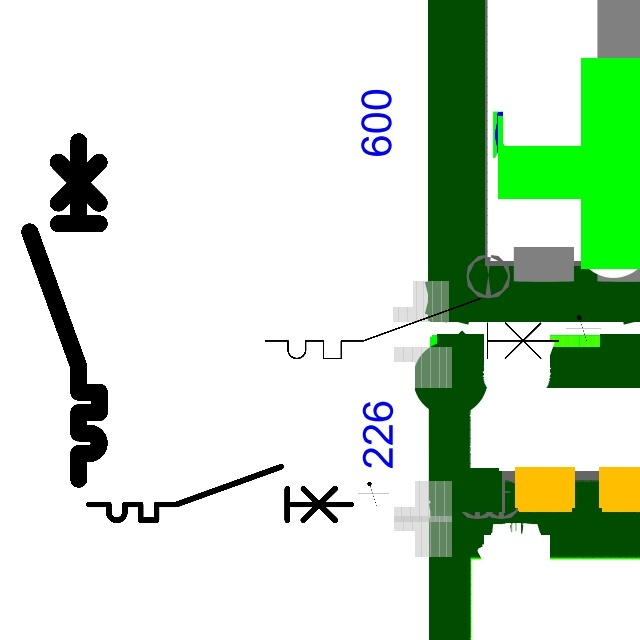interruptor_termomagnetico: (21, 133, 108, 488), (258, 291, 566, 366), (82, 460, 357, 527)
